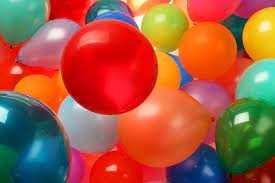Balloon: (60, 21, 158, 115), (121, 89, 212, 168), (1, 91, 71, 183), (215, 98, 275, 173), (181, 20, 237, 78), (62, 97, 118, 152), (142, 4, 188, 53), (1, 1, 50, 44), (242, 7, 275, 61), (88, 152, 144, 183)
